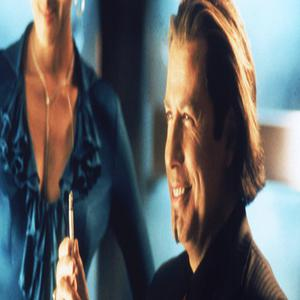cigarette: (68, 190, 75, 240)
